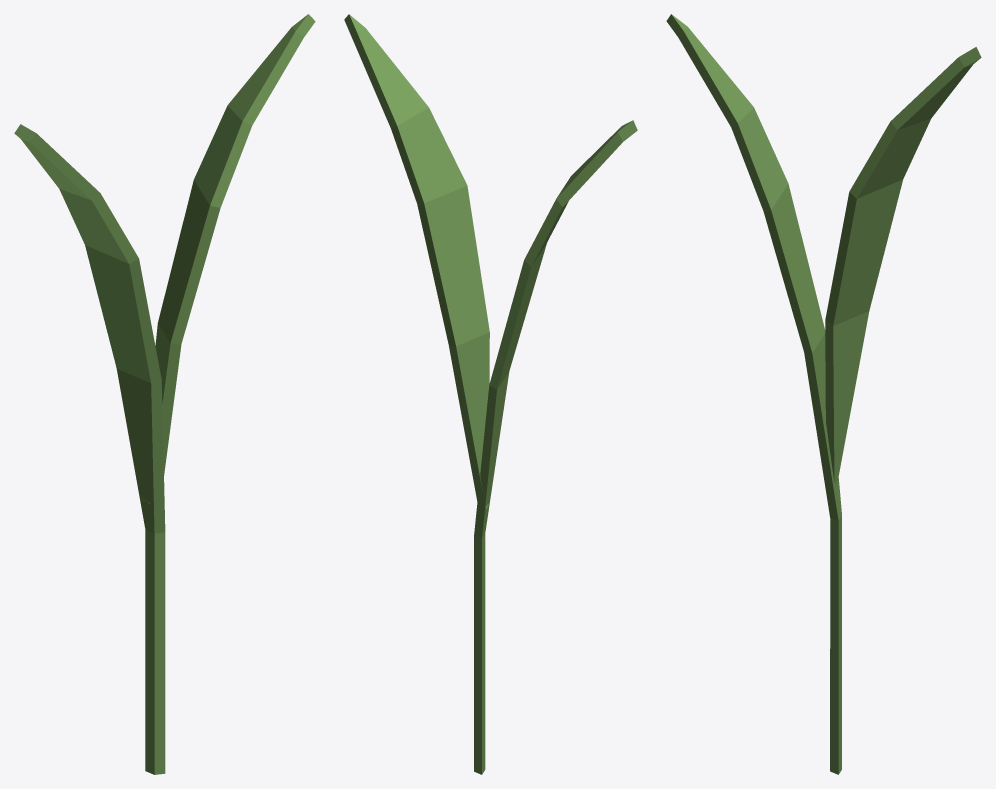
The model's file is rice_1.gltf.
The picture shows the model from 3 angles, left to right: view 1: azimuth 30°, elevation 25°; view 2: azimuth 150°, elevation 25°; view 3: azimuth 330°, elevation 25°; orthographic projection. The views are drawn at different scales.
Parts seen in each view (by area): view 1: rice_1; view 2: rice_1; view 3: rice_1.
Part boxes in pixels (left/top/right/bottom): rice_1: left=14, top=14, right=315, bottom=774; rice_1: left=344, top=14, right=637, bottom=774; rice_1: left=666, top=14, right=981, bottom=774.
Size of the model in its own units: 0.1584 by 0.3679 by 0.0306.
Materials: 1 (1 with a texture image).
